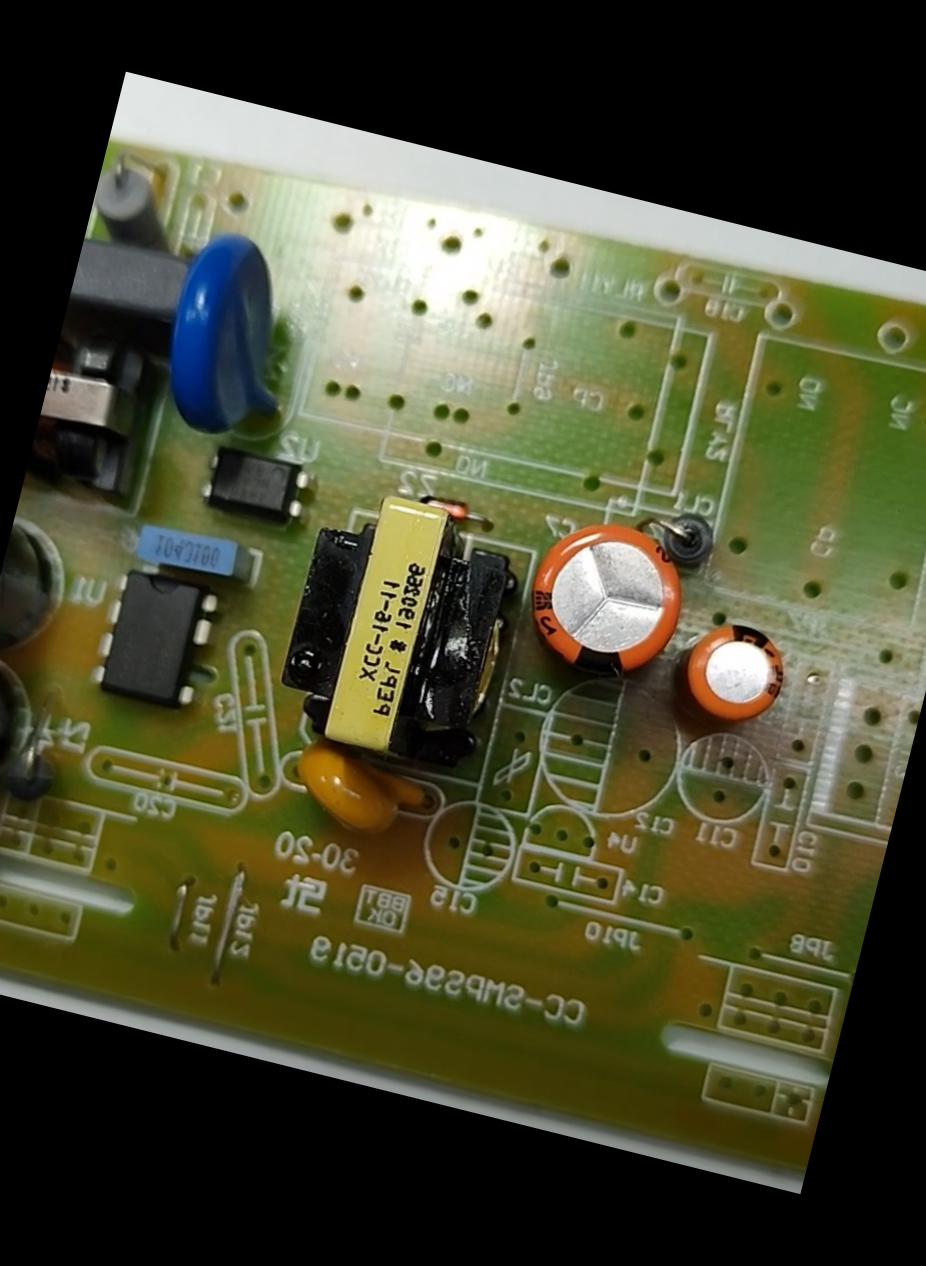Cap1: (496, 492, 710, 703)
Cap2: (657, 604, 806, 743)
Cap3: (0, 491, 86, 679)
Cap4: (0, 634, 54, 817)
MOSFET: (74, 548, 232, 721)
Mov: (132, 214, 332, 462)
Resistor: (82, 148, 194, 268)
Transformer: (256, 469, 548, 790), (21, 312, 190, 524)
